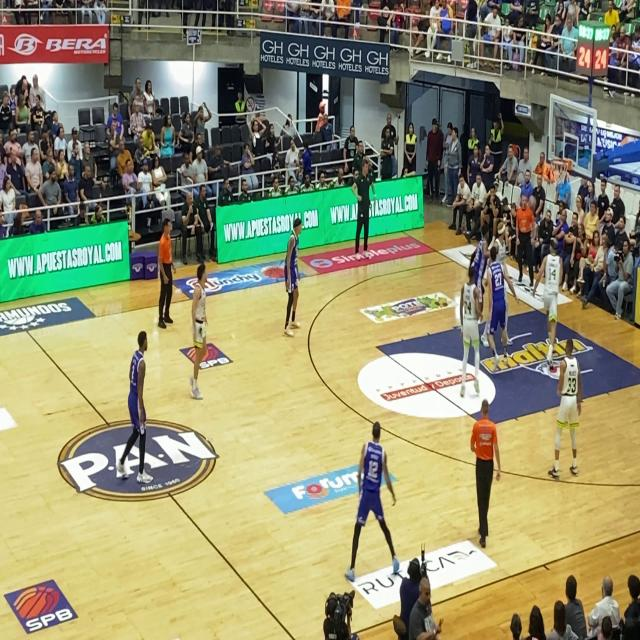Ball: (528, 195, 538, 212)
referee: (464, 369, 501, 555), (147, 215, 176, 346), (514, 188, 542, 303)
team1: (554, 330, 586, 492), (532, 233, 568, 371), (457, 258, 486, 408), (185, 249, 211, 412)
team2: (342, 382, 400, 592), (125, 308, 150, 484), (482, 237, 516, 362), (278, 208, 312, 332), (466, 215, 494, 296)
ubasket: (549, 156, 570, 186)
